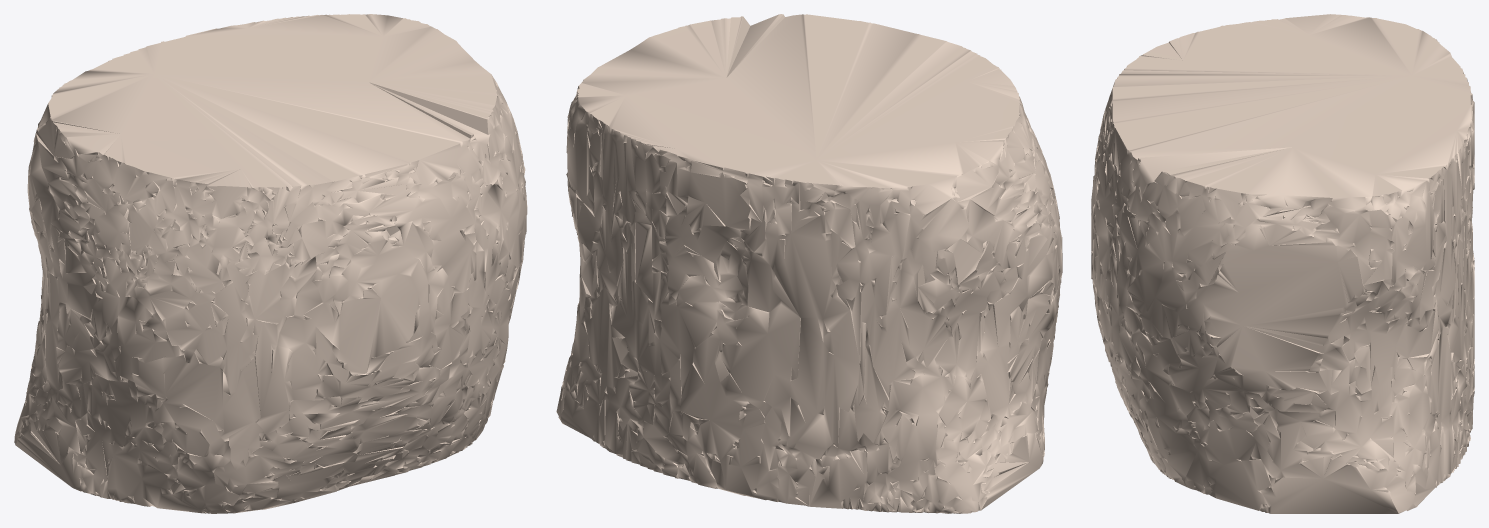
Rendered from liver.compact.glb.
3 views of the same model, side by side, from view 1: azimuth 30°, elevation 25°; view 2: azimuth 150°, elevation 25°; view 3: azimuth 270°, elevation 25° (orthographic). The views are drawn at different scales.
Parts seen in each view (by area): view 1: anatomy_Skin; view 2: anatomy_Skin; view 3: anatomy_Skin.
Part boxes in pixels (left/top/right/bottom): anatomy_Skin: left=14, top=14, right=527, bottom=513; anatomy_Skin: left=556, top=14, right=1062, bottom=513; anatomy_Skin: left=1091, top=14, right=1474, bottom=513.
Bounding box in the file's own units: 0.4146 × 0.3046 × 0.3388.
